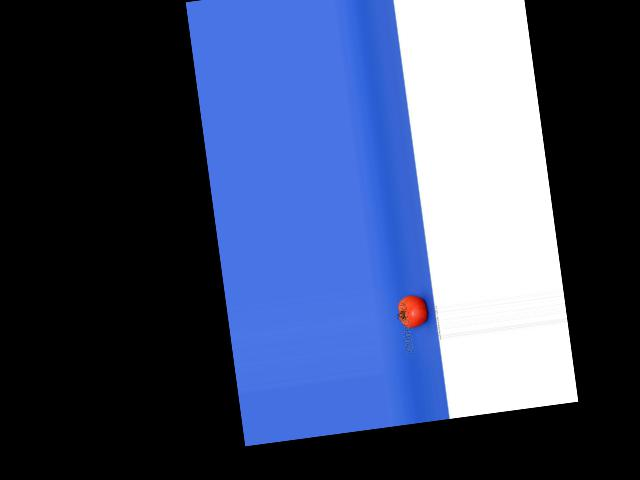tomato: (396, 292, 429, 328)
